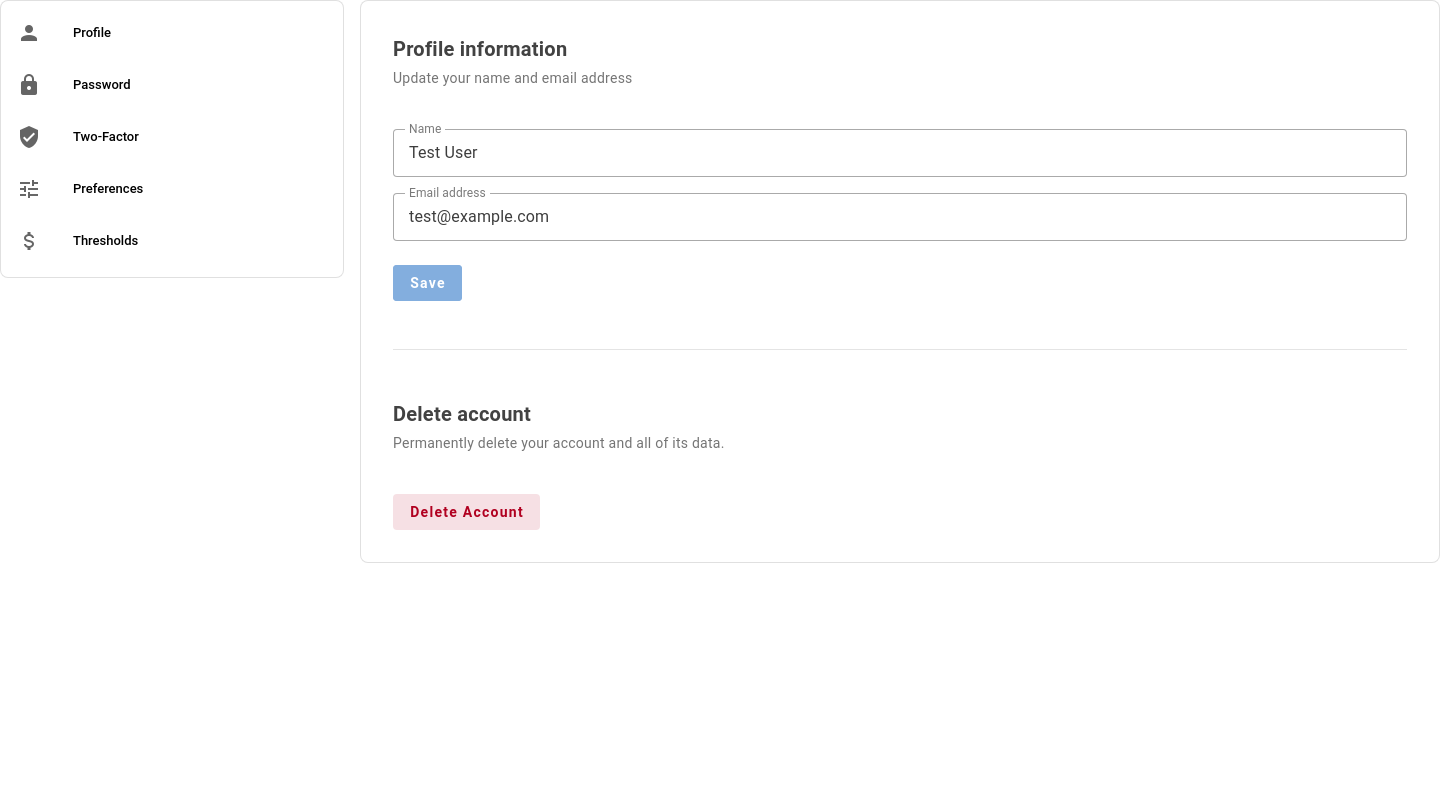
Test: settings/profile.vue › save button becomes enabled when form is modified
Replace the text in the field labelled "Name" with "New Name". click: coordinates (900, 153)
box: [393,129,1407,177]
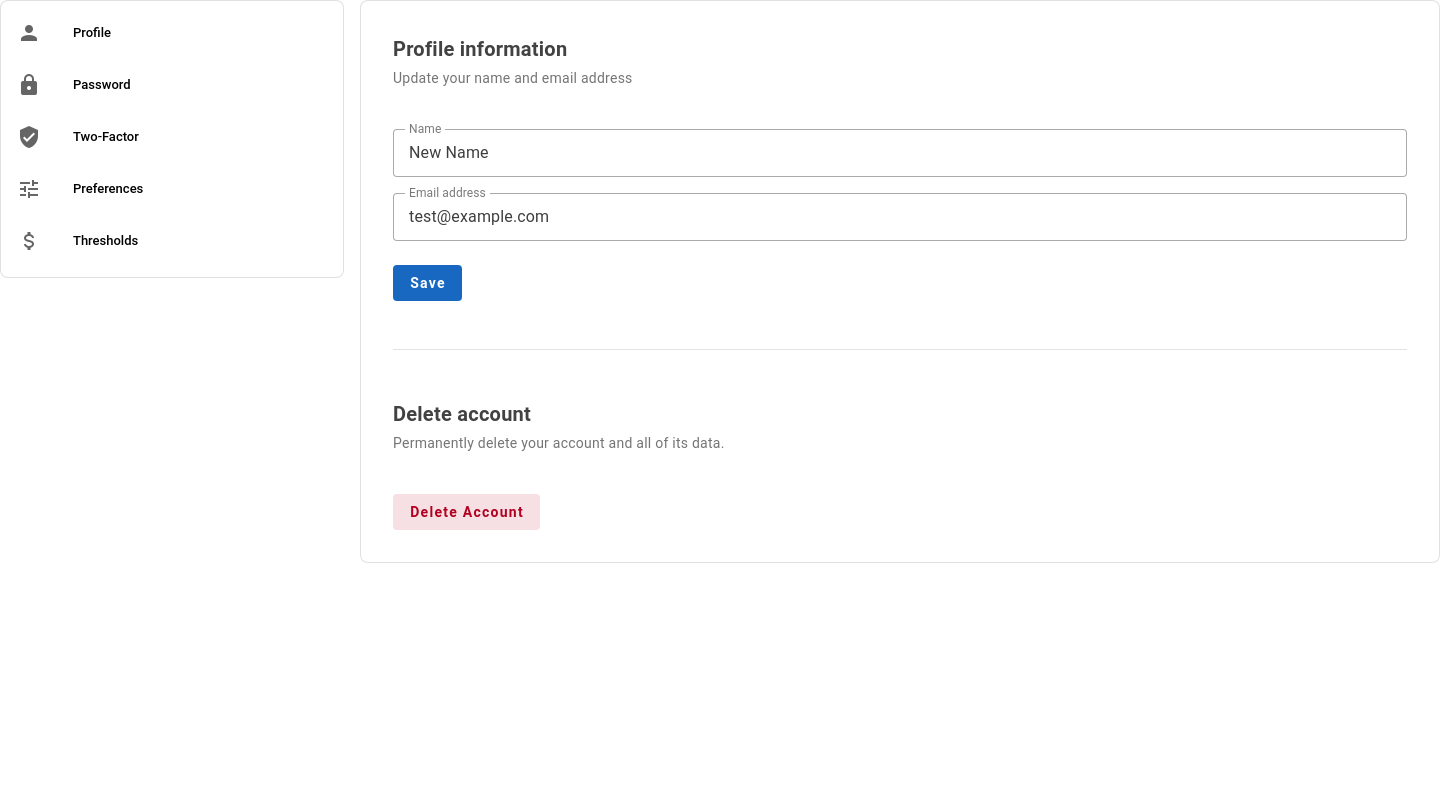
Expected: the button with test id "profile-save-btn" is enabled, [393,265,462,301]
